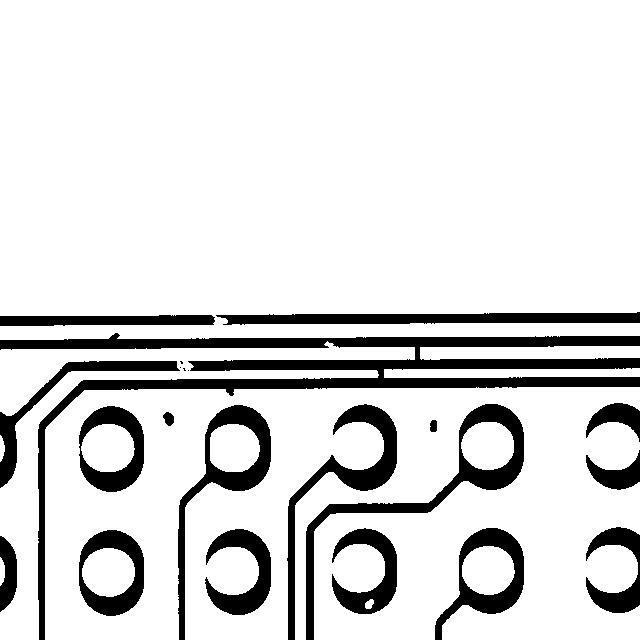copper: (153, 402, 183, 435), (420, 410, 446, 441)
mousebite: (314, 331, 349, 359)
open: (164, 339, 203, 385), (200, 302, 237, 334)
pin-hole: (355, 589, 383, 618)
short: (195, 423, 220, 474), (404, 330, 429, 371), (363, 357, 393, 391)
spur: (96, 323, 129, 354), (216, 372, 243, 405)
